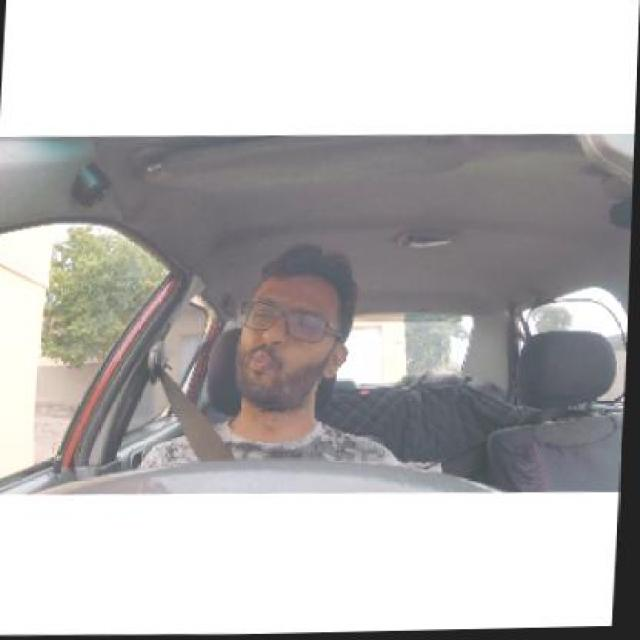drowsy: (234, 252, 353, 410)
